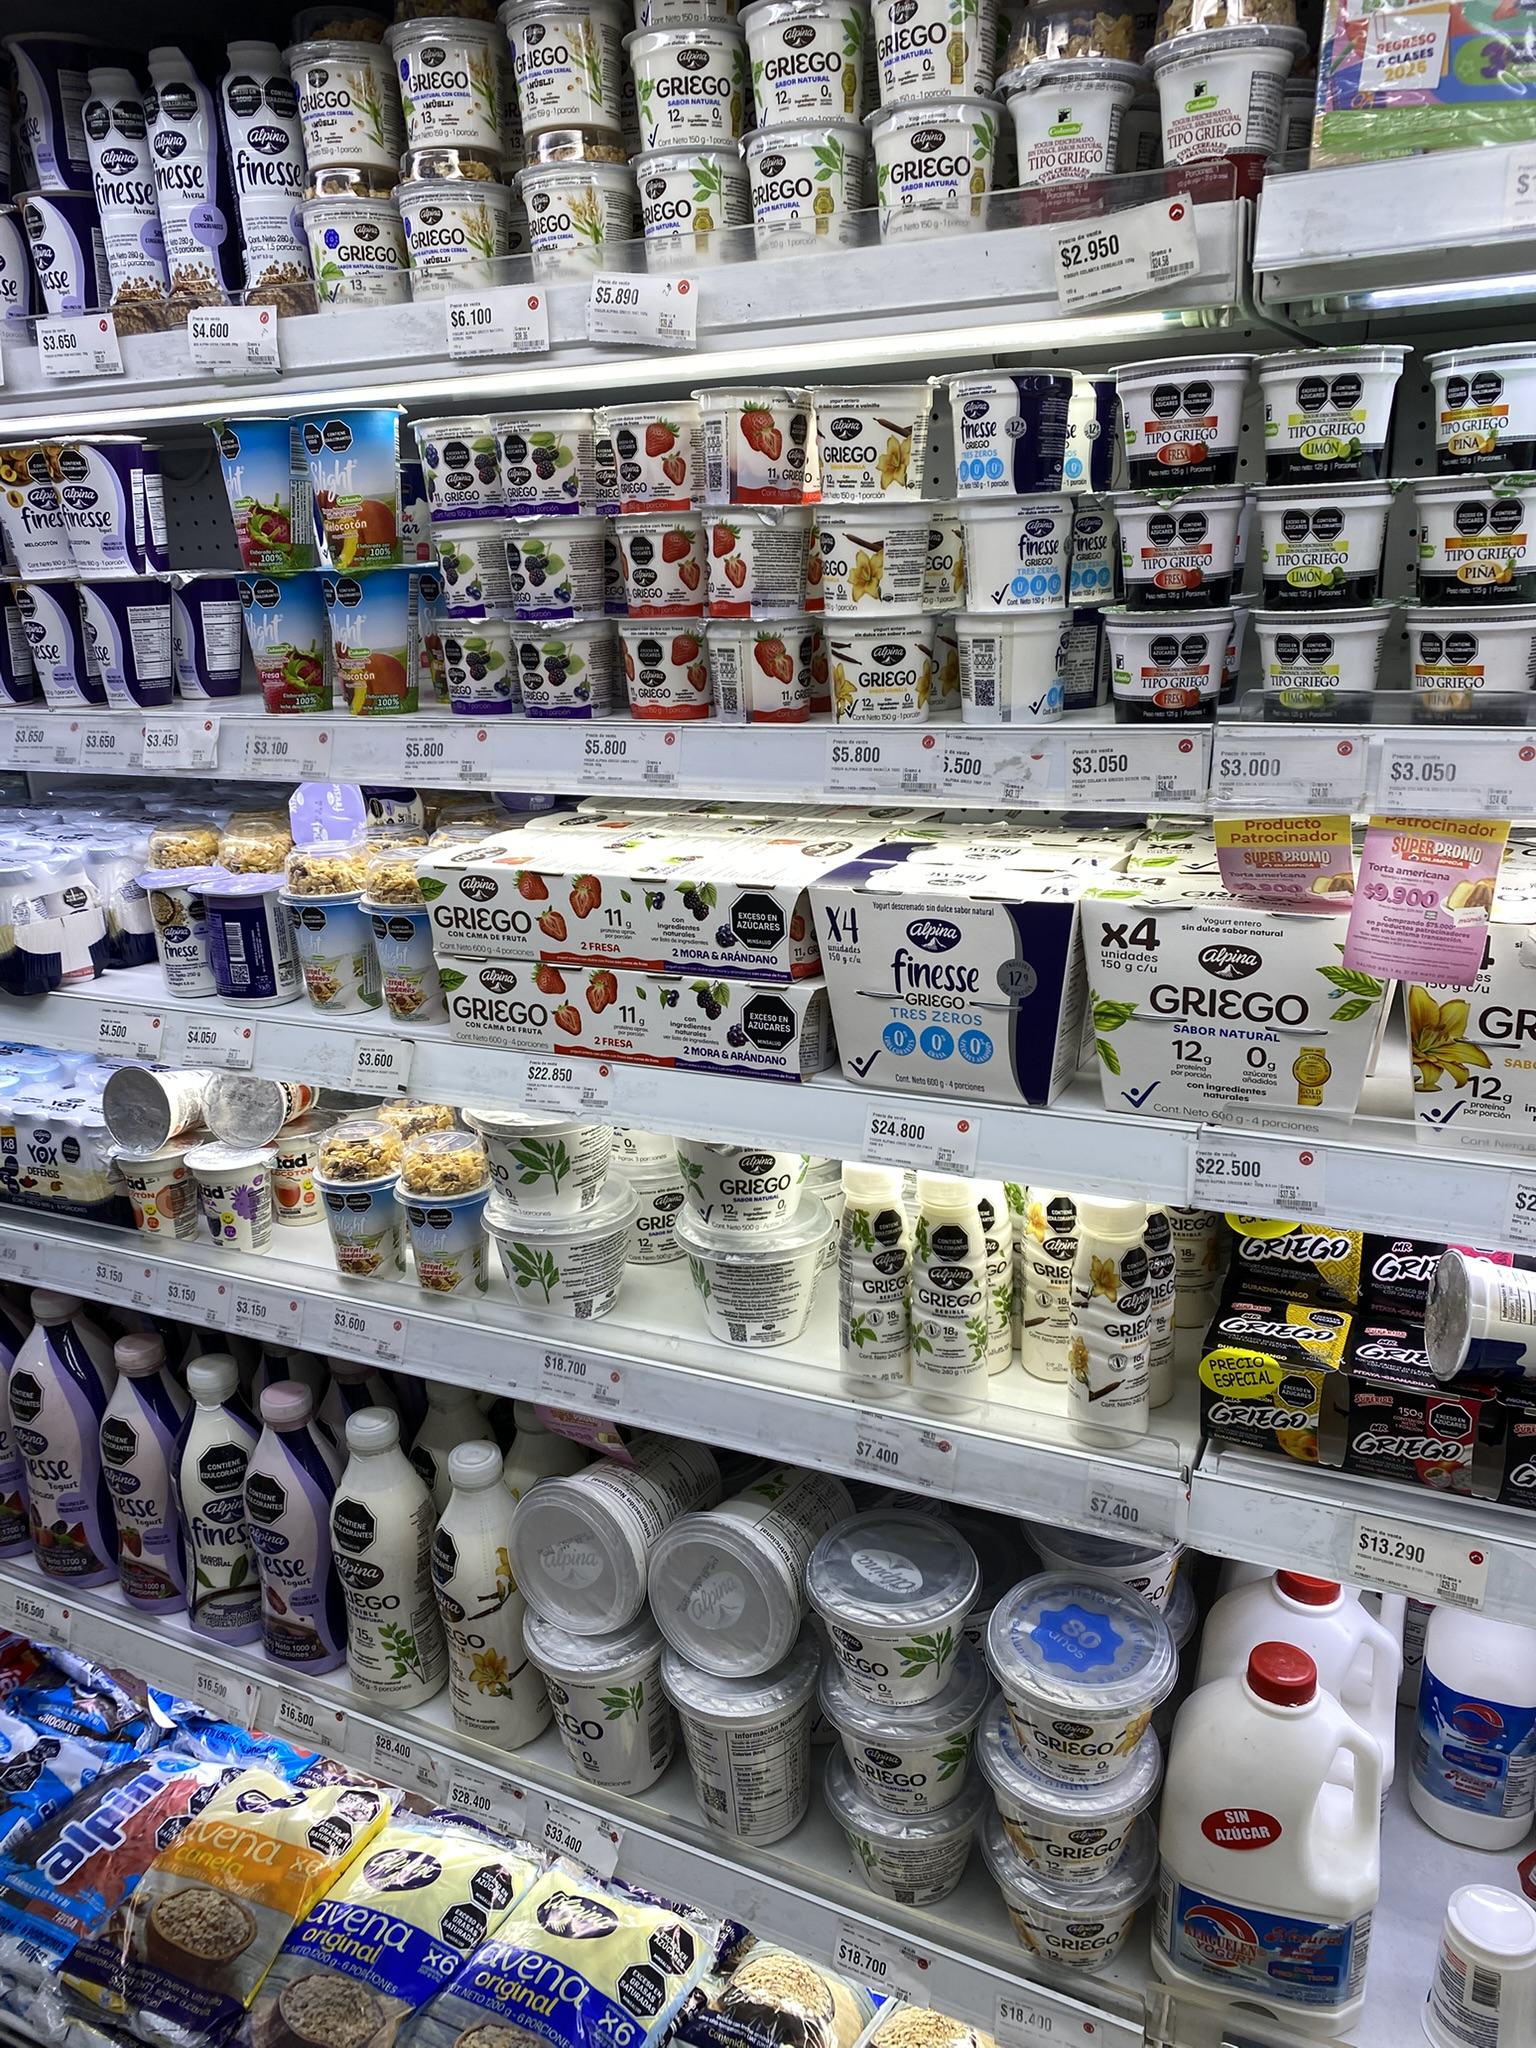Yogurt Griego: (670, 1648, 833, 1851), (528, 1584, 663, 1821), (818, 1517, 986, 1706), (878, 85, 1025, 234), (461, 1097, 628, 1221), (726, 116, 870, 260), (829, 1672, 986, 1801), (668, 1211, 816, 1347), (482, 1203, 644, 1319), (834, 1788, 991, 1908), (652, 1121, 813, 1235), (615, 0, 737, 148), (615, 152, 750, 273), (742, 8, 862, 131), (878, 3, 987, 87)
